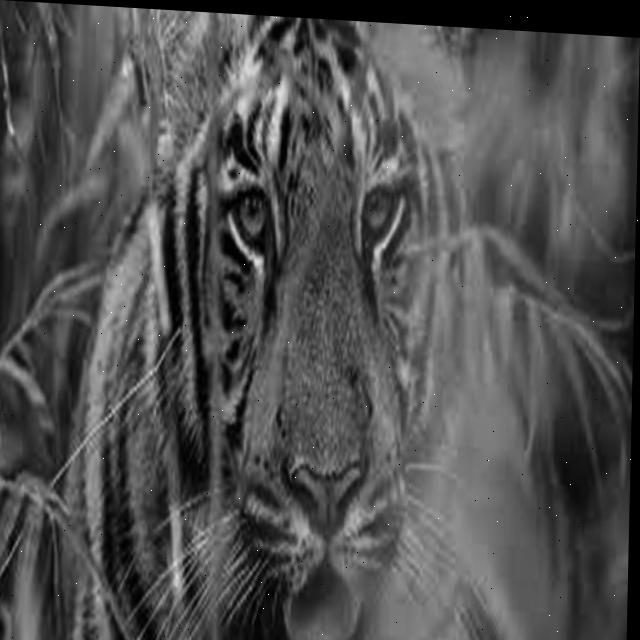Tiger: (66, 60, 496, 610)
